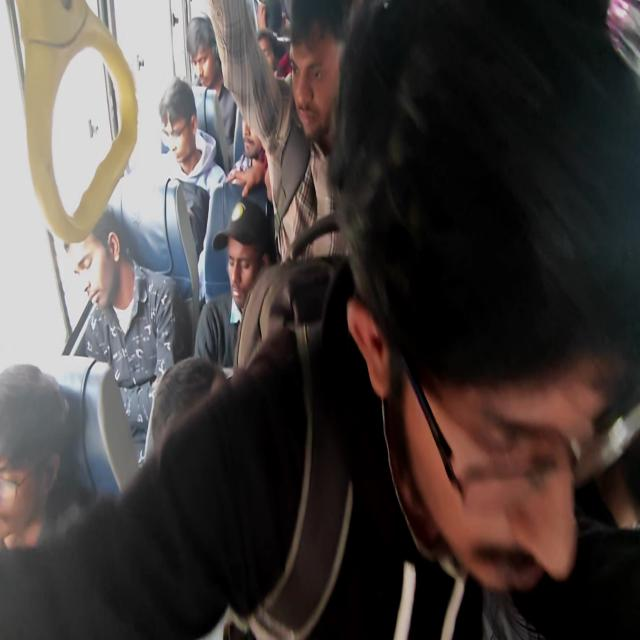person: (377, 53, 618, 586), (155, 358, 225, 496), (0, 388, 54, 560), (287, 8, 348, 147), (66, 216, 124, 312), (222, 206, 270, 310), (160, 89, 204, 171), (187, 31, 231, 94), (236, 106, 270, 186), (254, 29, 277, 91), (258, 0, 280, 36)
